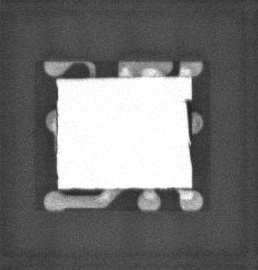DIE_BROKEN: (184, 98, 191, 169), (55, 79, 60, 156)
